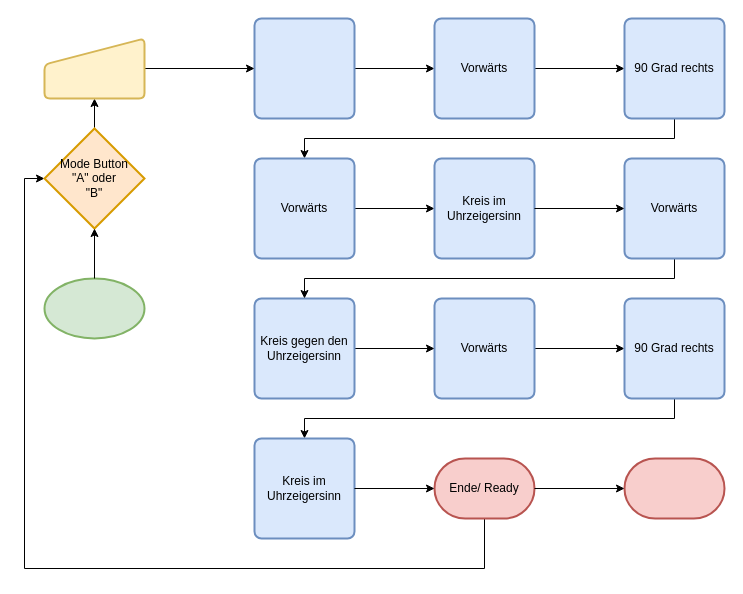
Image size: 743x594. Some labels were removed from this diagram. The centre of each missing label's shape, as x and y in pixels:
Anwahl vorprogrammierter Weg: (304,68)
Ende/ Ende: (674,488)
Mode "A" am Einhorn: (94,68)
Programmstart: (94,308)
